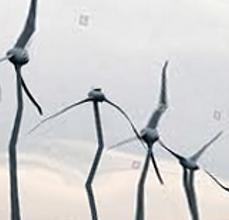faulty: (55, 80, 131, 133)
